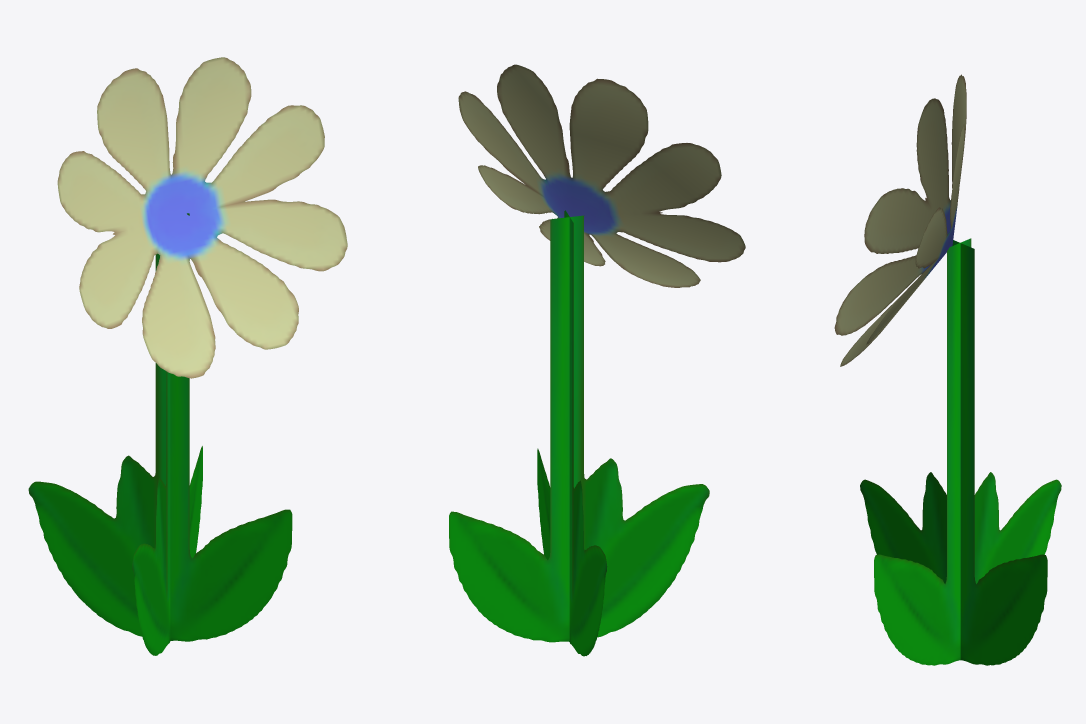
File: Flower01_c01.FBX
3 renders of one model, left to right at view 1: azimuth 30°, elevation 25°; view 2: azimuth 150°, elevation 25°; view 3: azimuth 270°, elevation 25°, orthographic. The views are drawn at different scales.
Visible parts, largest first — view 1: Flower01_c01; view 2: Flower01_c01; view 3: Flower01_c01.
Boxes of the visible parts, box(x1,y1,x2,y2) form: Flower01_c01: box(28, 57, 347, 655); Flower01_c01: box(449, 64, 745, 656); Flower01_c01: box(834, 74, 1061, 665).
Bounding box in the file's own units: 39.49 × 80.76 × 32.65.
Materials: 1 (1 with a texture image).
